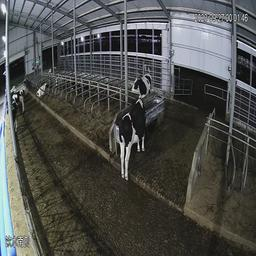cow: (118, 98, 148, 182), (129, 72, 153, 103), (6, 95, 21, 132), (36, 82, 50, 99), (23, 78, 29, 97)
